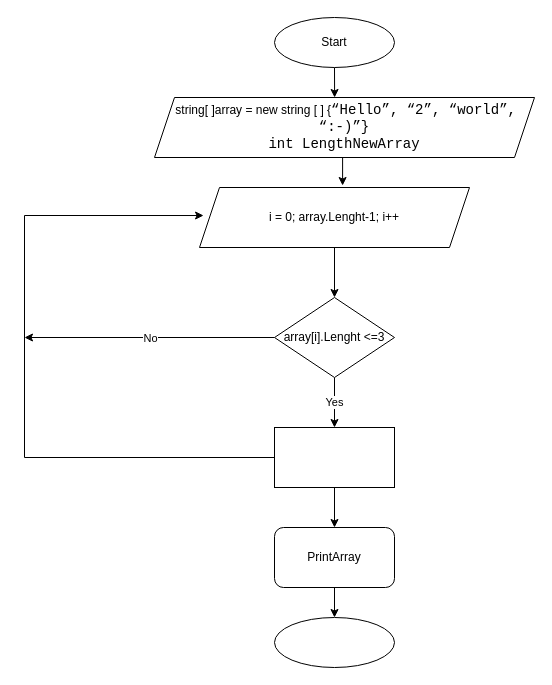
Image size: 552x685. Some labels were removed from this diagram. The centre of each missing label's shape, as x and y in pixels:
End: the point at 334,642
newArray[x] = array[i] x++: the point at 334,457
